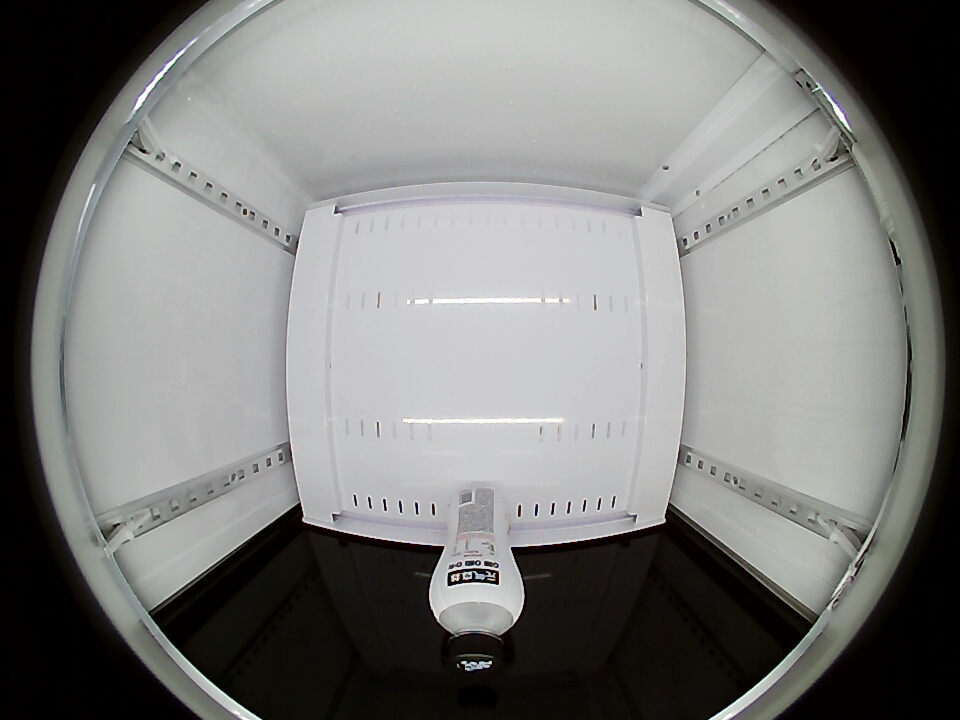yuanqishui: (429, 565, 525, 676)
